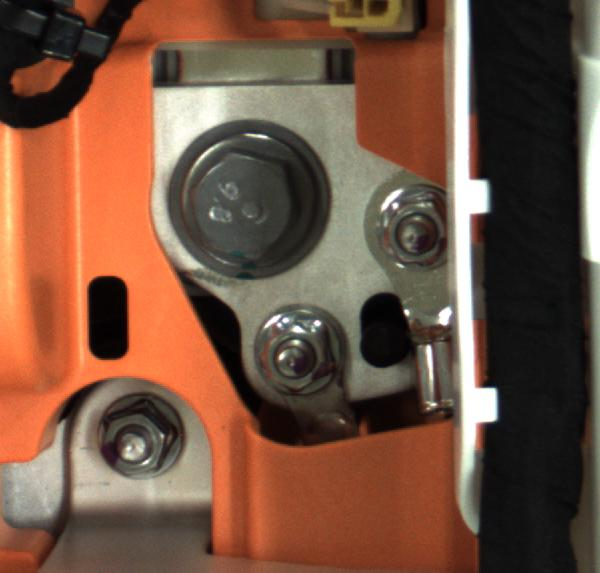nut_b: (158, 117, 324, 284)
screw_s: (256, 304, 337, 401), (97, 397, 190, 474), (372, 187, 452, 276)
